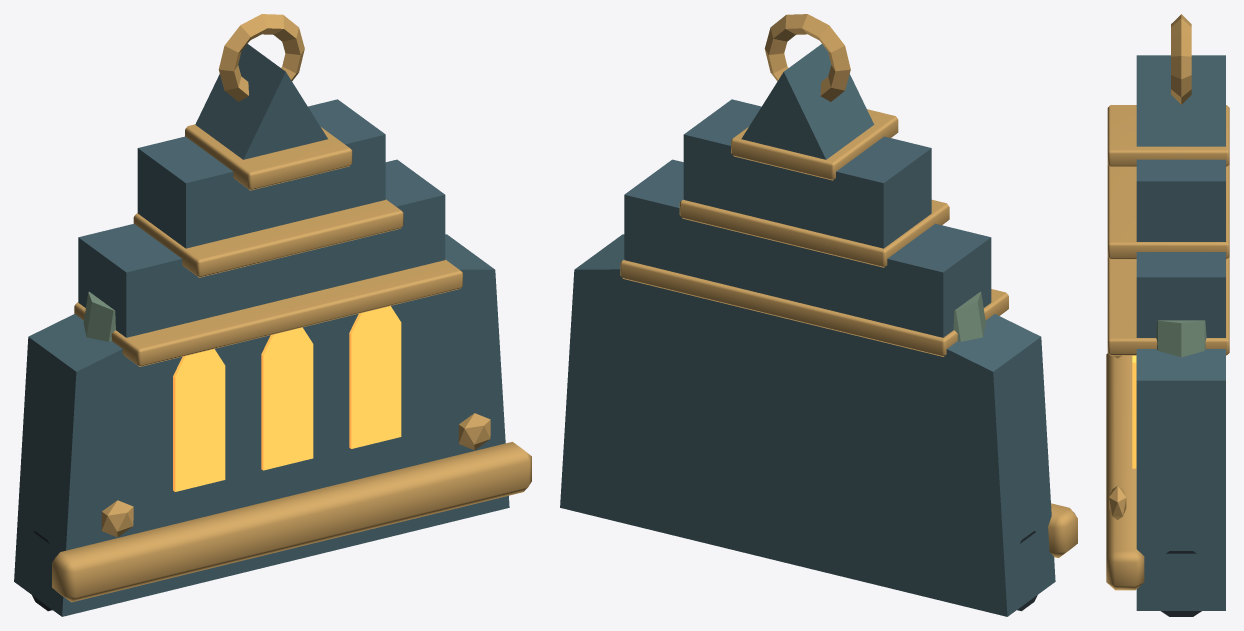
Rendered from guardian-crown-armor.glb.
3 views of the same model, side by side, from view 1: azimuth 30°, elevation 25°; view 2: azimuth 150°, elevation 25°; view 3: azimuth 270°, elevation 25° (orthographic). The views are drawn at different scales.
Visible parts, largest first — view 1: Kaiserburg hinged imperial crown, guardian-crown-armor / Brass | guardian machined gold, guardian-crown-armor / Lamp | guardian vented amber, guardian-crown-armor / Copper | guardian aged copper; view 2: Kaiserburg hinged imperial crown, guardian-crown-armor / Brass | guardian machined gold, guardian-crown-armor / Copper | guardian aged copper; view 3: Kaiserburg hinged imperial crown, guardian-crown-armor / Brass | guardian machined gold, guardian-crown-armor / Copper | guardian aged copper, guardian-crown-armor / Lamp | guardian vented amber, Imperial armor hinge.
Part boxes in pixels (<box>): Kaiserburg hinged imperial crown: <box>14,44,509,616</box>; guardian-crown-armor / Brass | guardian machined gold: <box>52,14,531,602</box>; guardian-crown-armor / Lamp | guardian vented amber: <box>173,306,401,491</box>; guardian-crown-armor / Copper | guardian aged copper: <box>83,291,115,341</box>; Kaiserburg hinged imperial crown: <box>560,44,1055,616</box>; guardian-crown-armor / Brass | guardian machined gold: <box>620,14,1077,557</box>; guardian-crown-armor / Copper | guardian aged copper: <box>953,291,985,341</box>; Kaiserburg hinged imperial crown: <box>1136,55,1225,610</box>; guardian-crown-armor / Brass | guardian machined gold: <box>1106,14,1229,590</box>; guardian-crown-armor / Copper | guardian aged copper: <box>1156,320,1206,357</box>; guardian-crown-armor / Lamp | guardian vented amber: <box>1132,355,1136,468</box>; Imperial armor hinge: <box>1161,551,1201,616</box>.
Size of the model in its own units: 1.97 by 2.16 by 0.485.
